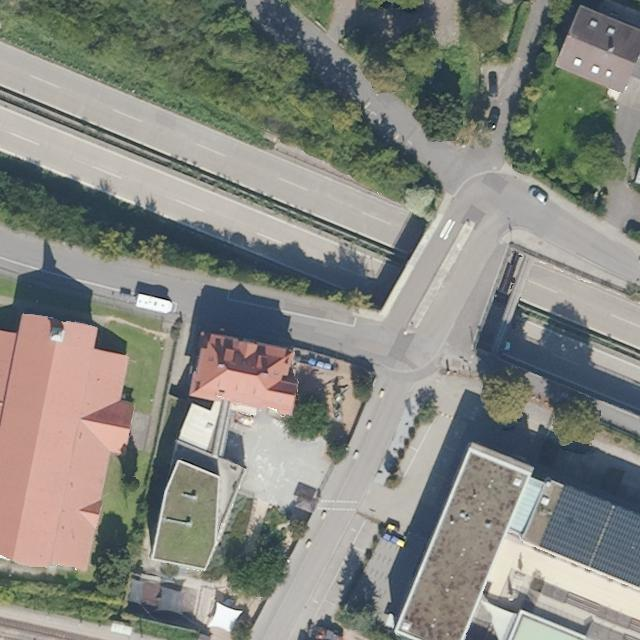PV: (535, 480, 639, 590)
